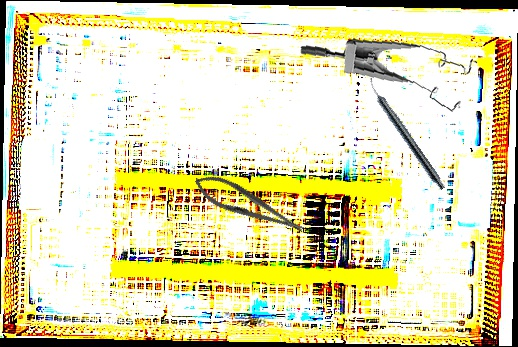Handpiece: (363, 76, 449, 192)
Needle Holder: (189, 167, 309, 244)
Speculum: (299, 26, 478, 127)
